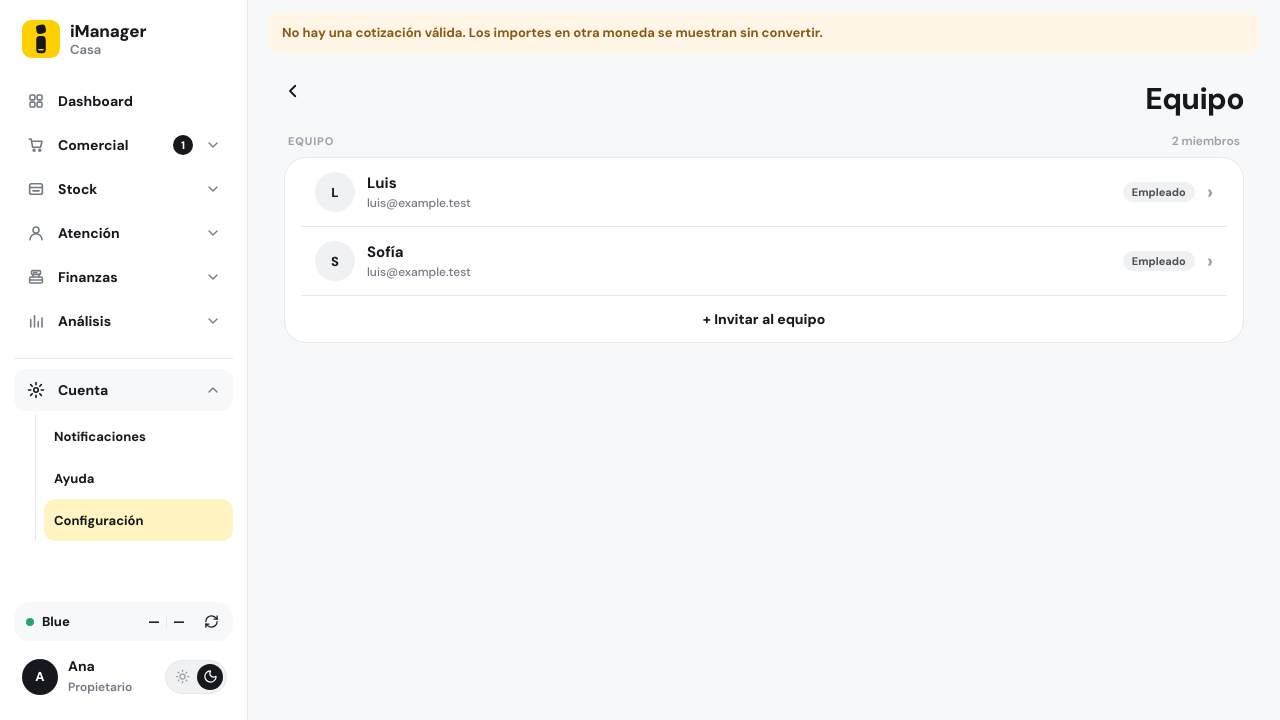
Scenario: sidebar unread counts › reutiliza el equipo al abrir, guardar y volver de permisos a 1440px
What coordinates should you click on to do the following:
click the button with test id "settings-member-m2"
I would click on:
 (335, 192)
Its box is top-left (301, 158), bottom-right (1227, 227).
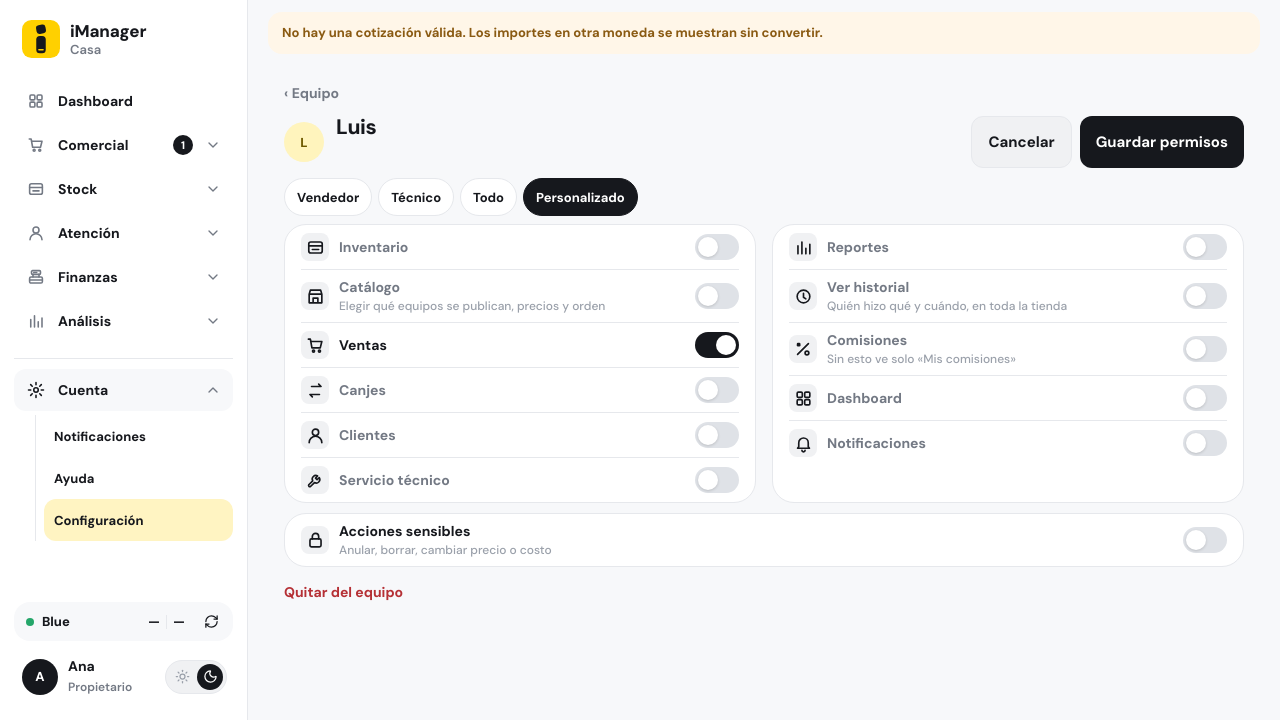
Expected: the heading "Luis" is shown, top-left (336, 113), bottom-right (376, 141)
What coordinates should you click on to do the following:
click the switch named "Reportes"
I would click on:
 (1205, 247)
Its box is top-left (1183, 234), bottom-right (1227, 260).
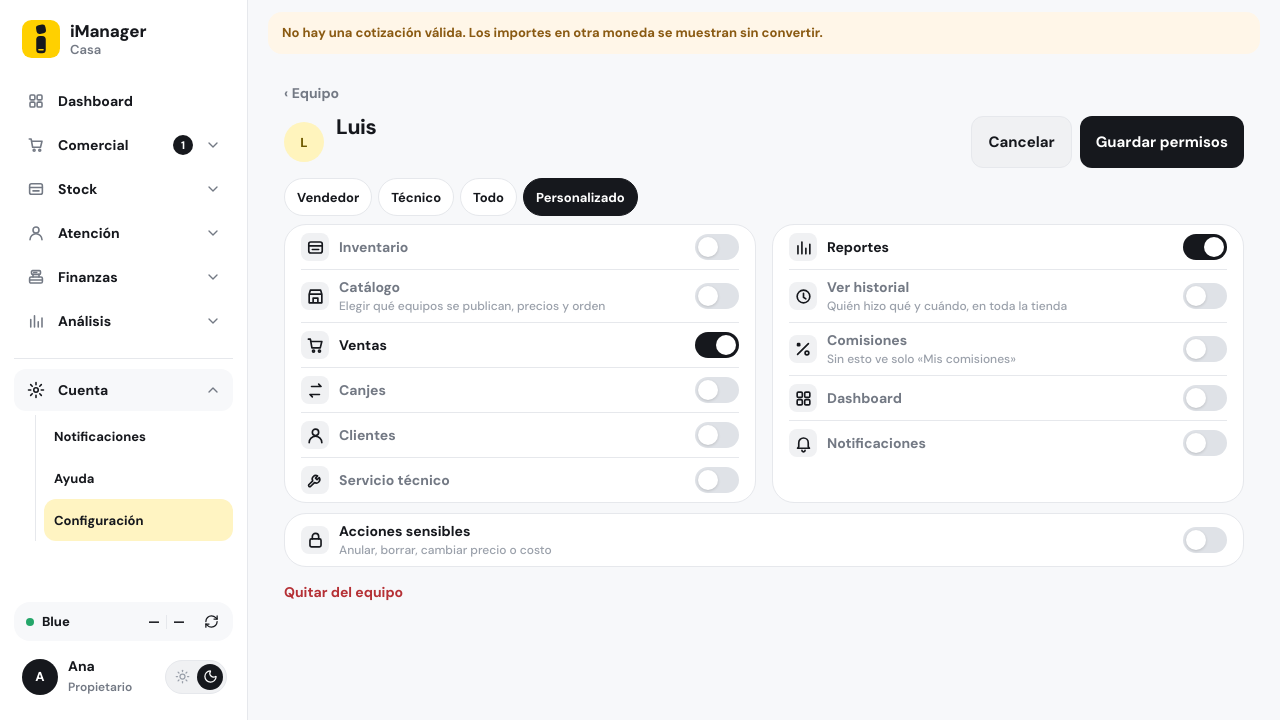
What coordinates should you click on to do the following:
click the button "Guardar permisos"
I would click on:
 (1162, 142)
Its box is top-left (1080, 116), bottom-right (1244, 168).
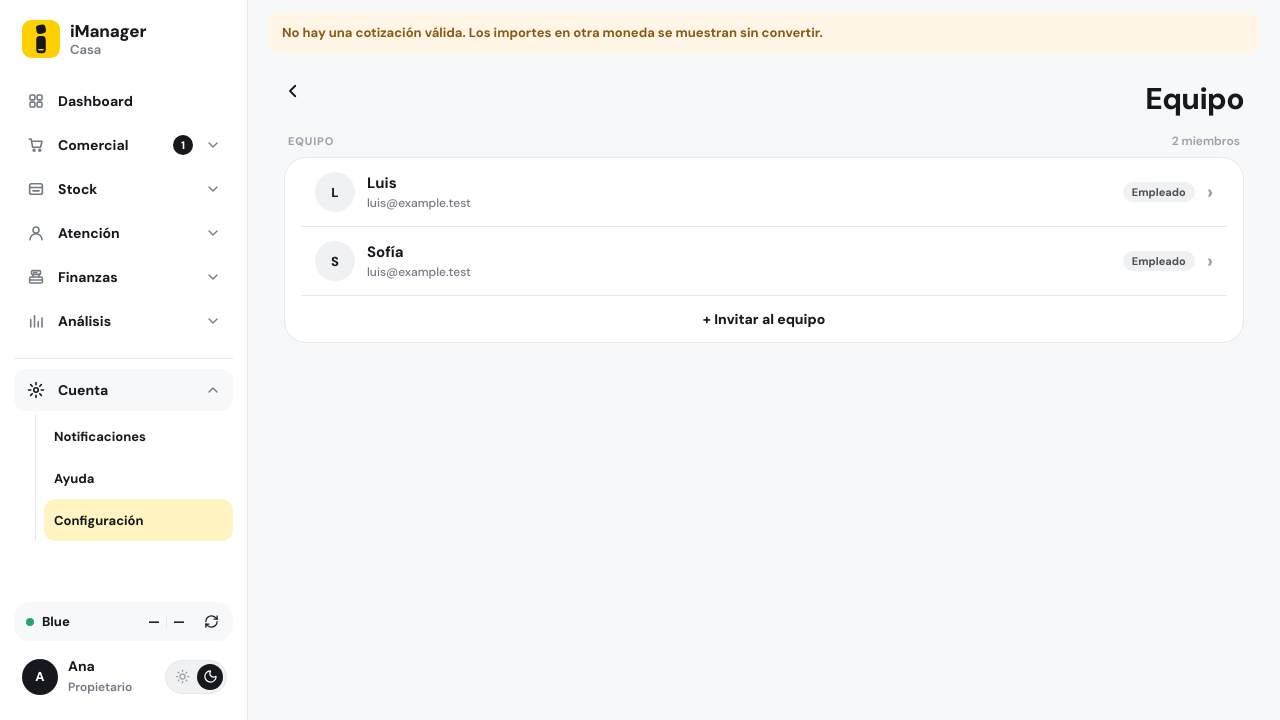
What coordinates should you click on to do the following:
click the button with test id "settings-member-m2"
I would click on:
 (335, 192)
Its box is top-left (301, 158), bottom-right (1227, 227).
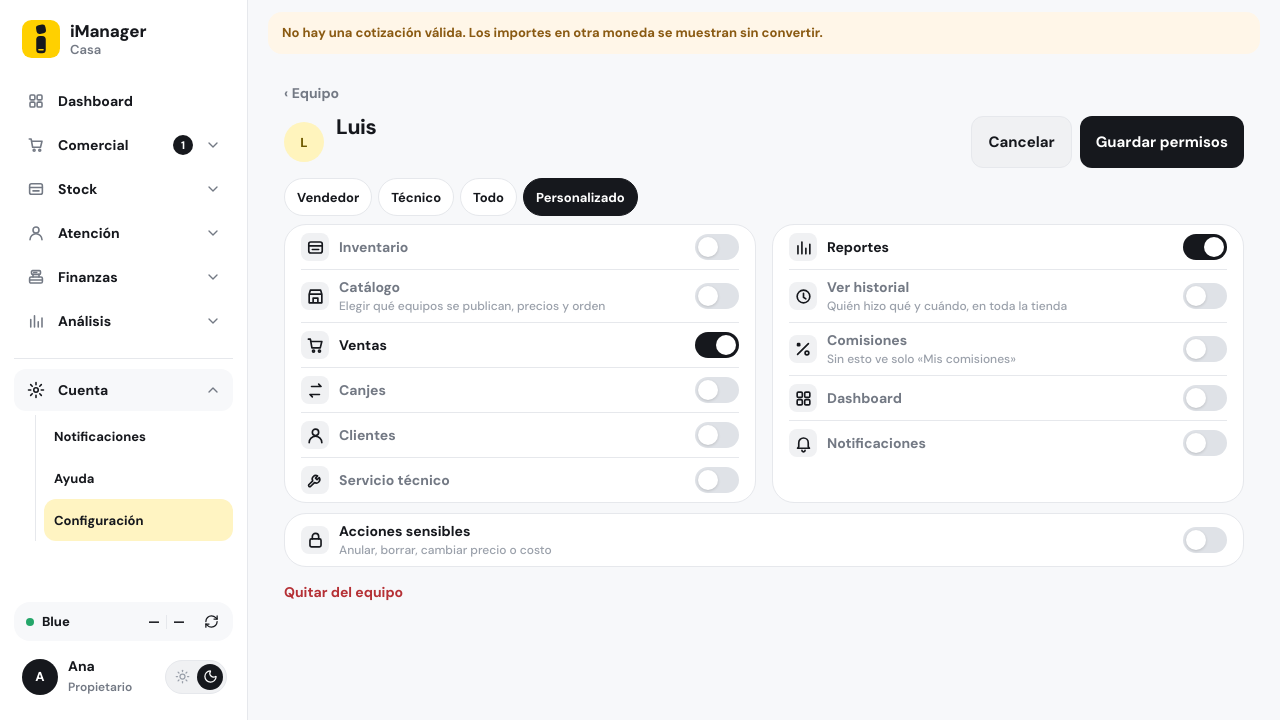
Expected: the switch named "Reportes" is checked, top-left (1183, 234), bottom-right (1227, 260)
What coordinates should you click on to do the following:
click the switch named "Inventario"
I would click on:
 (717, 247)
Its box is top-left (695, 234), bottom-right (739, 260).
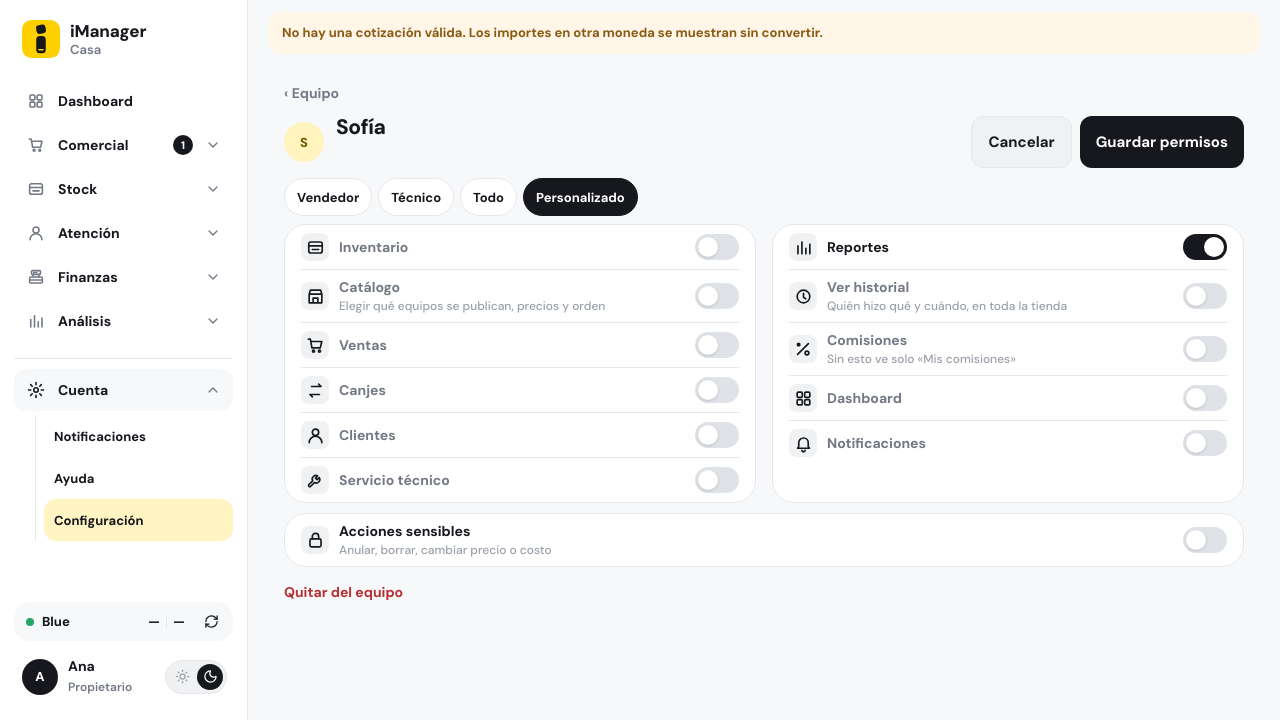
Expected: the switch named "Inventario" is not checked, top-left (695, 234), bottom-right (739, 260)
Expected: the heading "Sofía" is shown, top-left (336, 113), bottom-right (385, 141)
Expected: the switch named "Ventas" is not checked, top-left (695, 332), bottom-right (739, 358)
